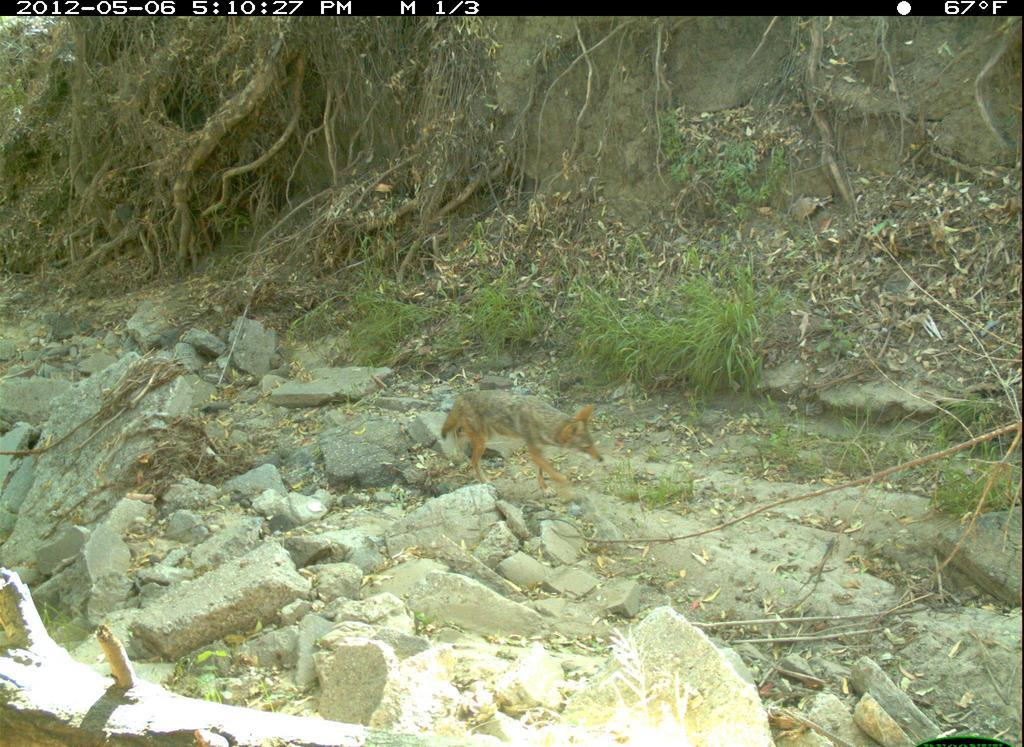coyote: (428, 368, 620, 504)
